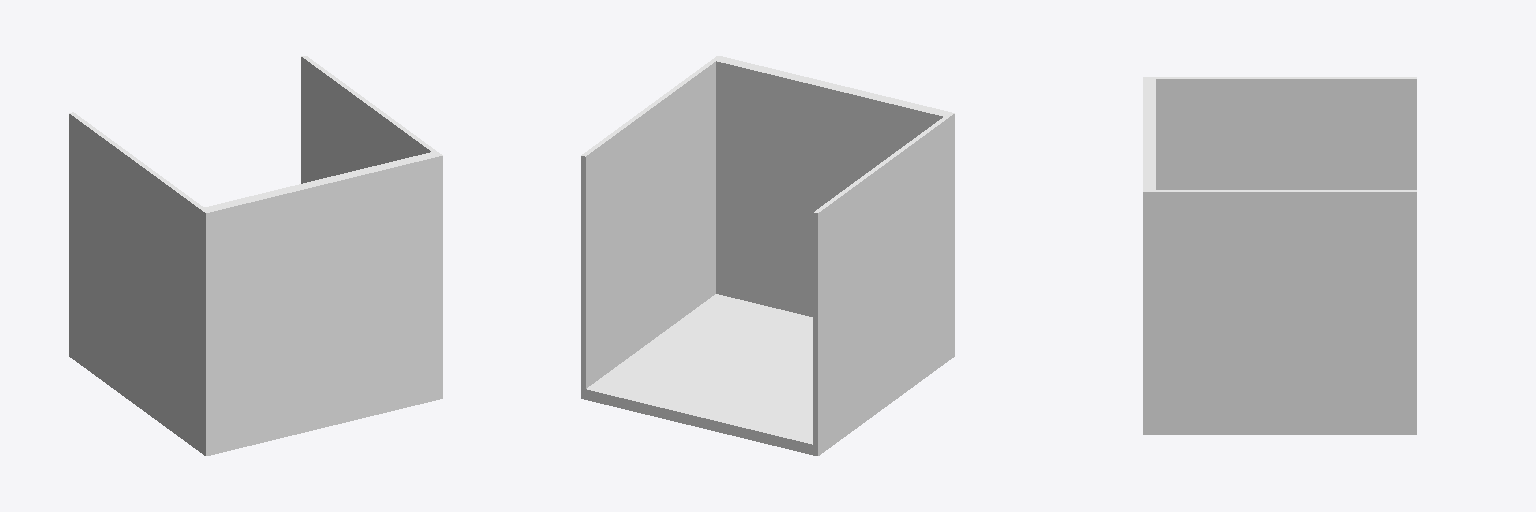
File: wallBoss.obj
The picture shows the model from 3 angles: view 1: azimuth 30°, elevation 25°; view 2: azimuth 150°, elevation 25°; view 3: azimuth 270°, elevation 25°; orthographic projection.
Parts seen in each view (by area): view 1: object 1; view 2: object 1; view 3: object 1.
Part boxes in pixels (x1,y1,x2,y2): object 1: (69, 56, 442, 455); object 1: (581, 56, 954, 455); object 1: (1143, 77, 1416, 434).
Size of the model in its own units: 25.6 by 25.1 by 25.6.